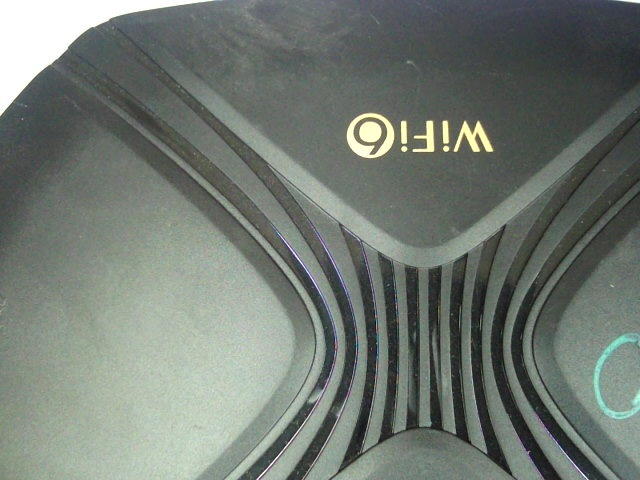AK_ZTEWIFI6Black: (335, 105, 499, 165)
